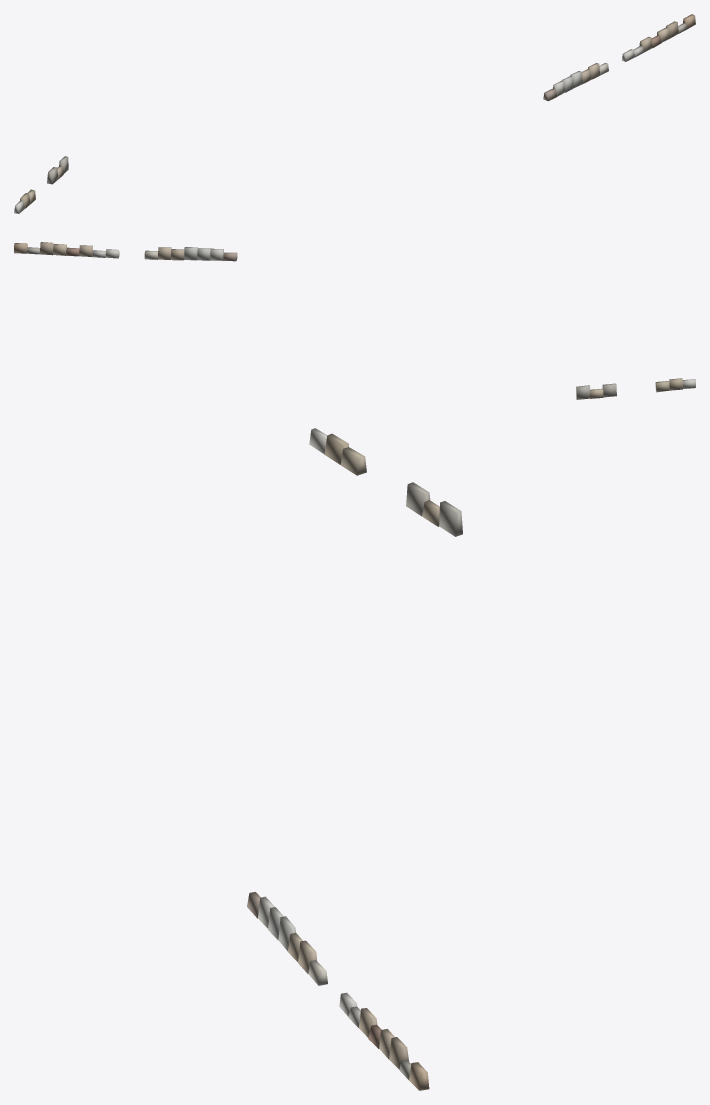
Rendered from farm_-8_-12_far.glb.
3 renders of one model, top to bottom at view 1: azimuth 30°, elevation 25°; view 2: azimuth 150°, elevation 25°; view 3: azimuth 270°, elevation 25°, orthographic. The views are drawn at different scales.
Parts seen in each view (by area): view 1: geometry_0; view 2: geometry_0; view 3: geometry_0.
Part boxes in pixels (x1,y1,x2,y2): geometry_0: (14,14,695,213); geometry_0: (14,242,695,399); geometry_0: (247,428,462,1090).
Bounding box in the file's own units: 88.44 × 2.05 × 12.62.
